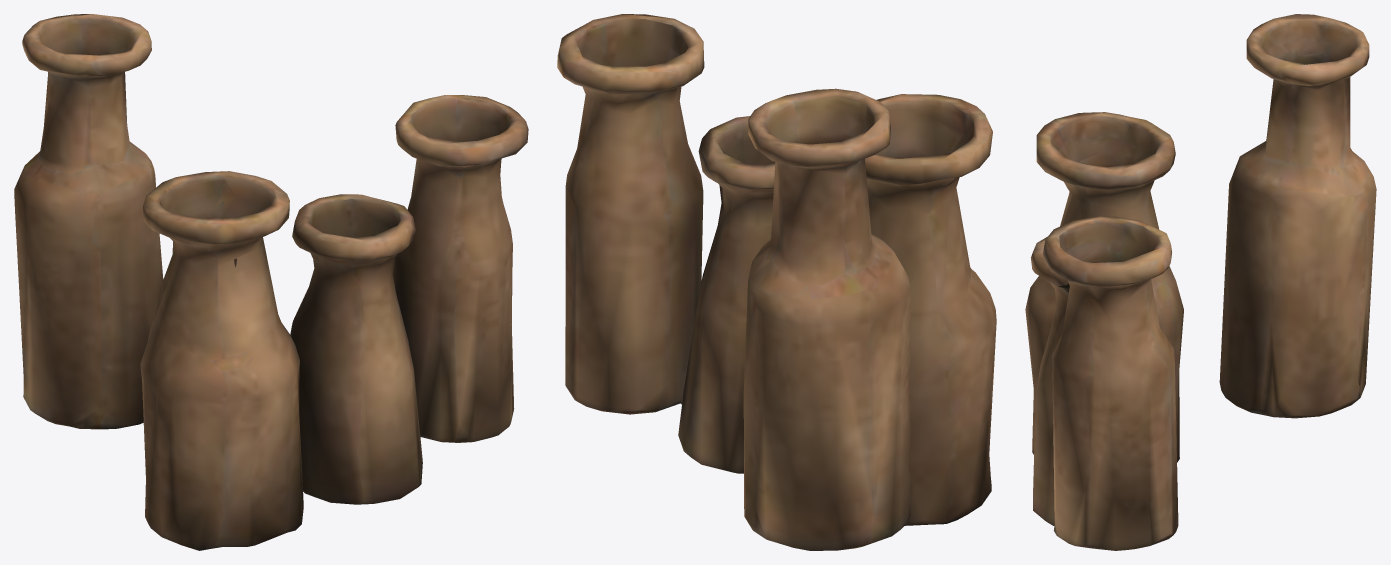
The model's file is chipped-sandstone-chimney-stack-v001.glb.
3 views of the same model, side by side, from view 1: azimuth 30°, elevation 25°; view 2: azimuth 150°, elevation 25°; view 3: azimuth 270°, elevation 25° (orthographic). The views are drawn at different scales.
Visible parts, largest first — view 1: chipped-sandstone-chimney-stack; view 2: chipped-sandstone-chimney-stack; view 3: chipped-sandstone-chimney-stack.
Part boxes in pixels (bbox=[...]): chipped-sandstone-chimney-stack: bbox=[14, 14, 528, 550]; chipped-sandstone-chimney-stack: bbox=[557, 14, 996, 550]; chipped-sandstone-chimney-stack: bbox=[1025, 14, 1376, 550].
Bounding box in the file's own units: 1.23 × 1.25 × 0.9787.
Materials: 1 (1 with a texture image).
